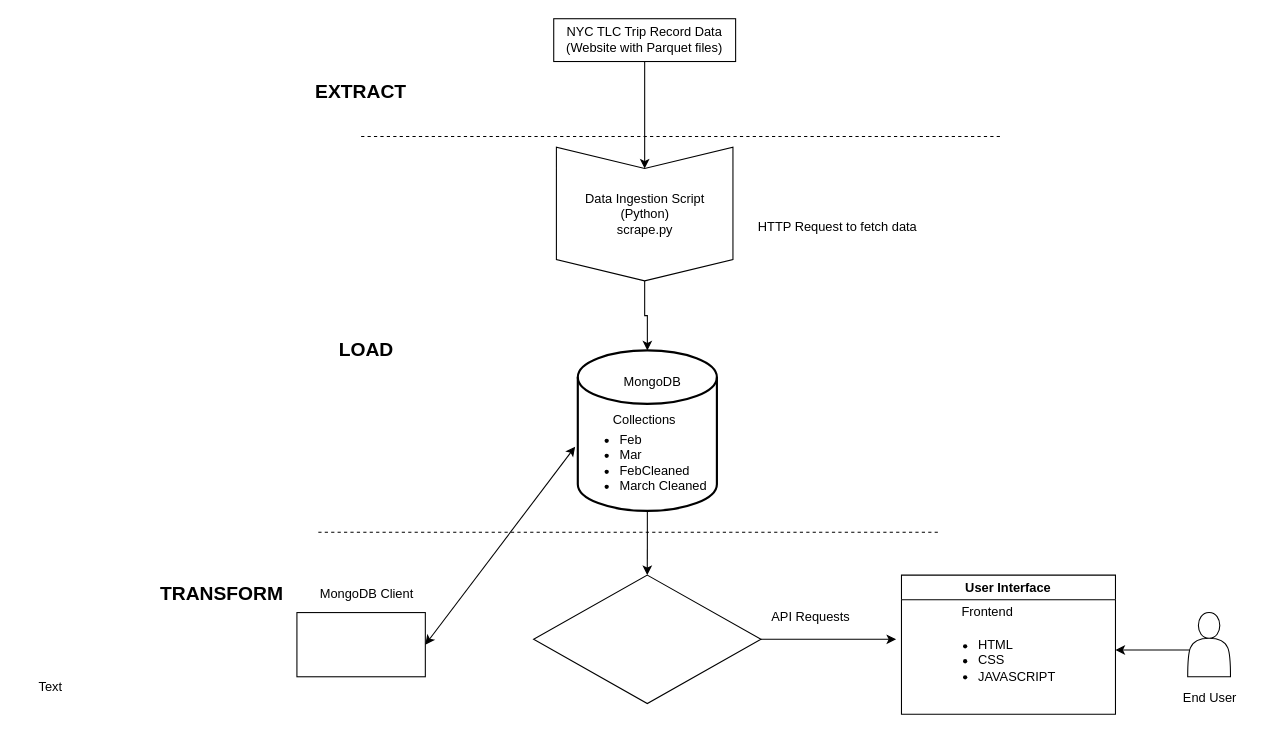
Some shapes in this 1265 by 733 pixel diagram are drawn without their labels. Each missing label, with the centre of its shape:
Backend (Node.js + Express.js) Endpoint handling MongoDB Interaction: (647,639)
Data Processing - Pandas: (360,644)
